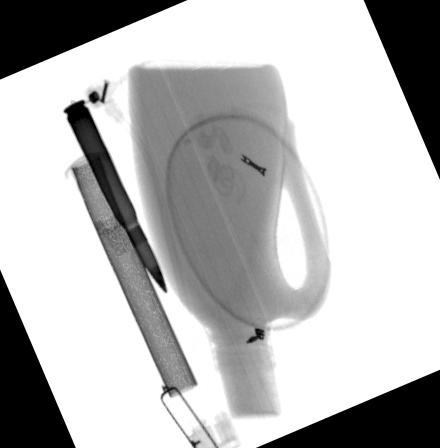Bullet: (61, 98, 169, 296)
